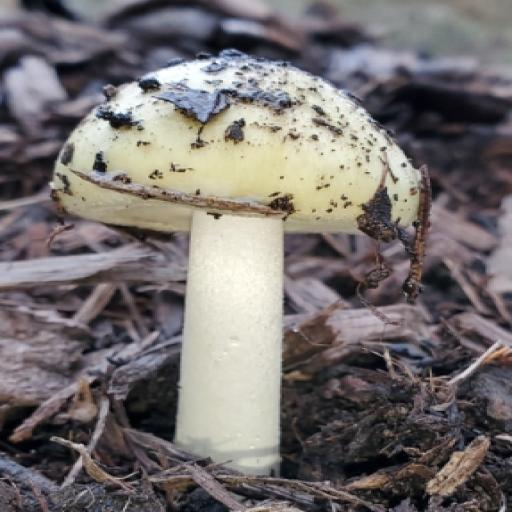mushroom: (0, 0, 453, 489)
